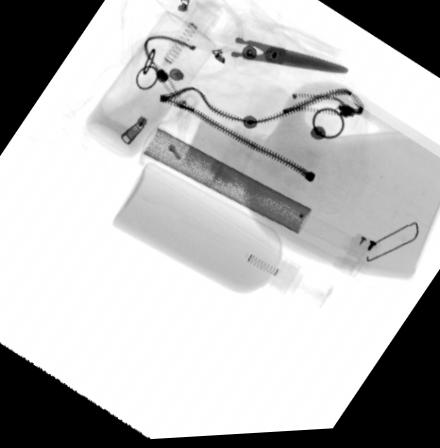Scissors: (171, 7, 349, 85)
